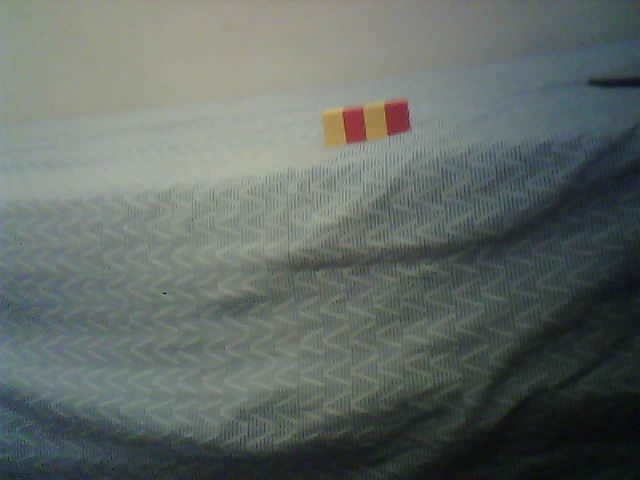lego: (320, 97, 411, 148)
